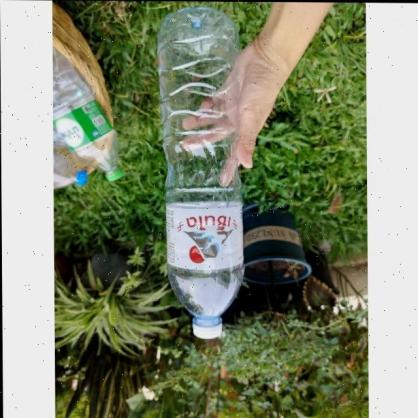bottle: (153, 6, 246, 341)
cap: (191, 318, 223, 338)
label: (163, 197, 244, 271)
